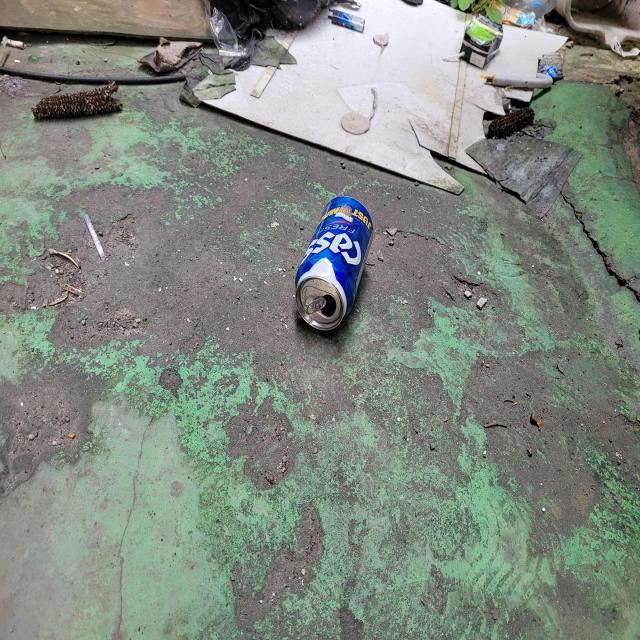can: (296, 196, 373, 330)
paperpack: (461, 13, 504, 67)
